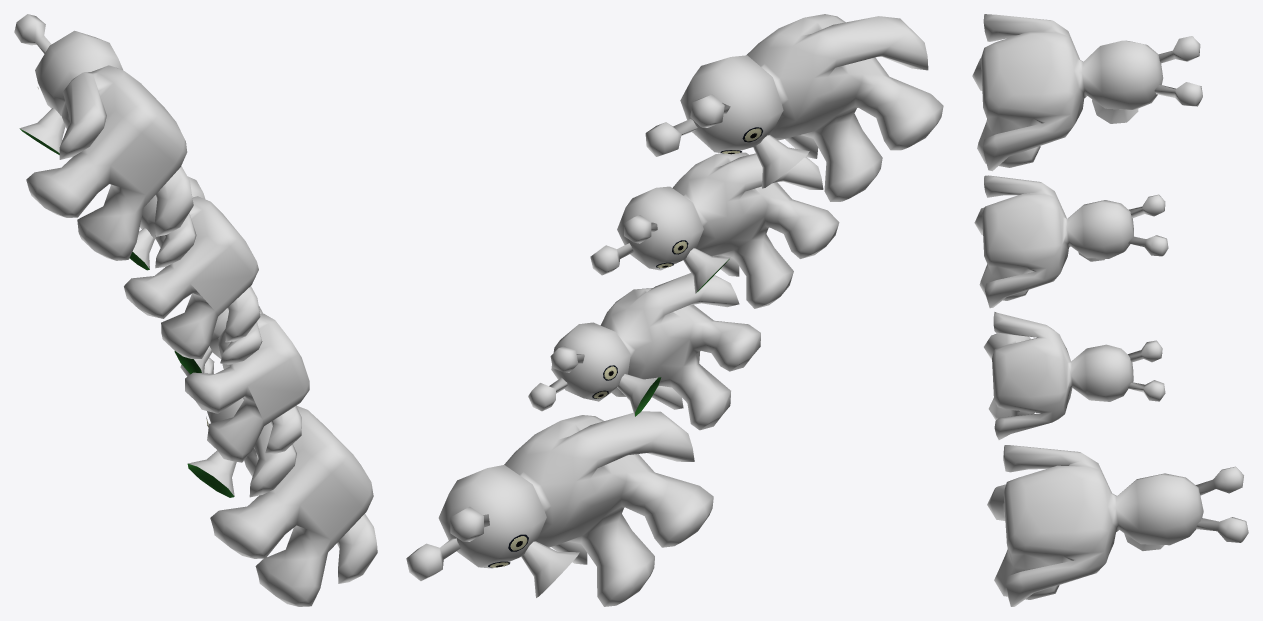
The model's file is aliens_hi.glb.
The picture shows the model from 3 angles, left to right: view 1: azimuth 30°, elevation 25°; view 2: azimuth 150°, elevation 25°; view 3: azimuth 270°, elevation 25°; orthographic projection. The views are drawn at different scales.
Parts seen in each view (by area): view 1: ___, mars_nose.jpg__; view 2: ___, mars_eye.jpg__; view 3: ___.
Part boxes in pixels (bbox=[...]): ___: bbox=[14, 14, 377, 606]; mars_nose.jpg__: bbox=[20, 129, 234, 497]; ___: bbox=[406, 14, 943, 606]; mars_eye.jpg__: bbox=[488, 127, 762, 567]; ___: bbox=[972, 14, 1248, 606].
Bounding box in the file's own units: 4.31 × 6.57 × 3.33.
3 materials, 2 textured.
